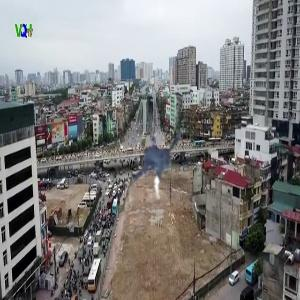drone: (111, 119, 205, 213)
